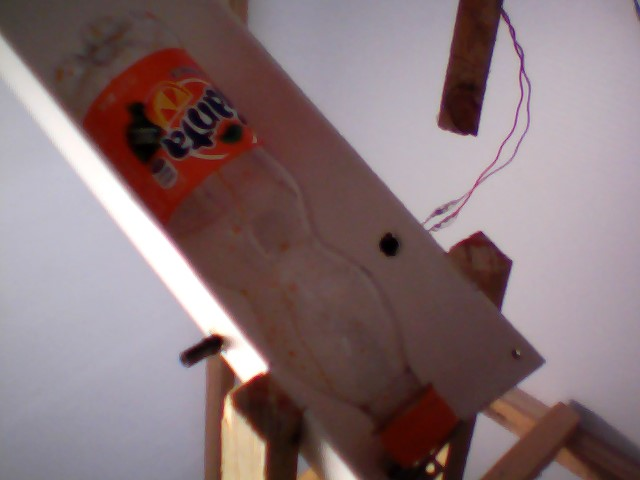plastico: (40, 7, 461, 474)
